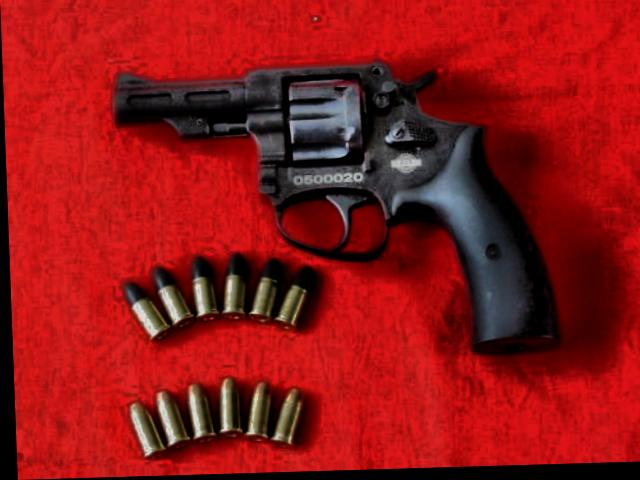pistol: (108, 58, 571, 367)
